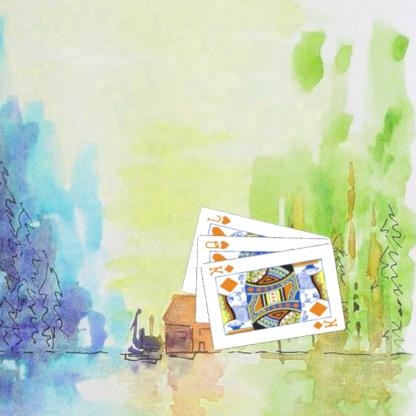JH: (206, 212, 234, 226)
KD: (312, 315, 340, 331), (208, 262, 237, 277)
QH: (204, 238, 232, 250)
